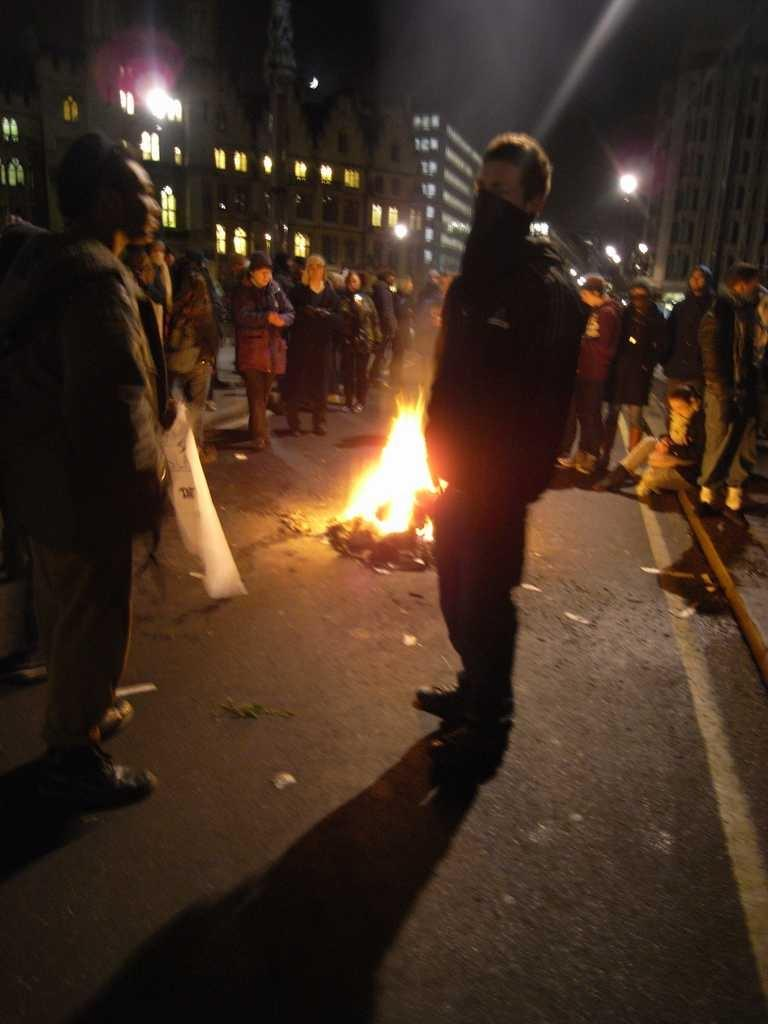fire: (345, 408, 435, 535)
